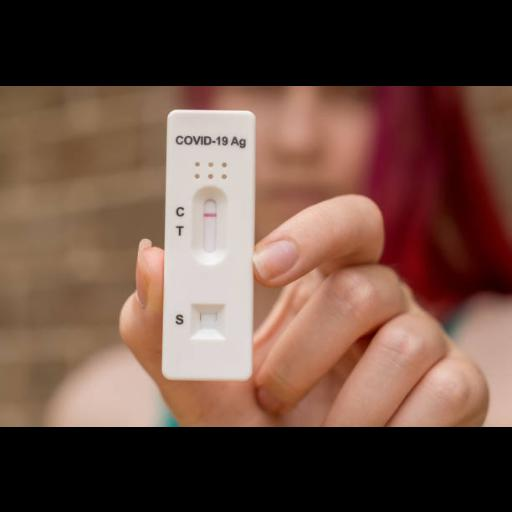Neg: (166, 110, 254, 380)
